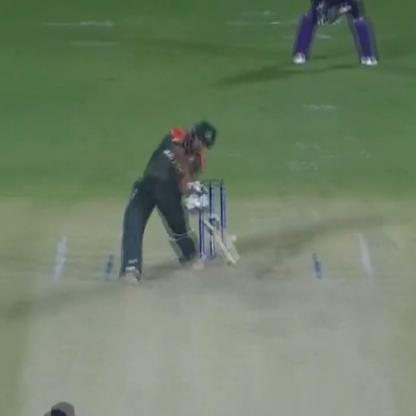ball: (226, 231, 238, 247)
bat: (188, 196, 248, 268)
pitch: (4, 216, 416, 415)
